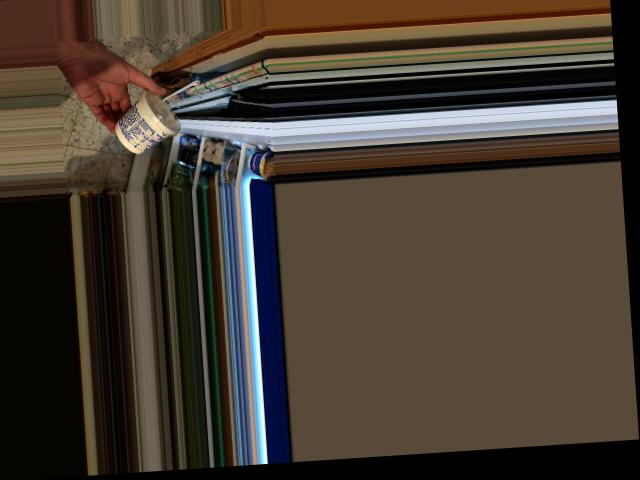cotage: (110, 83, 177, 148)
